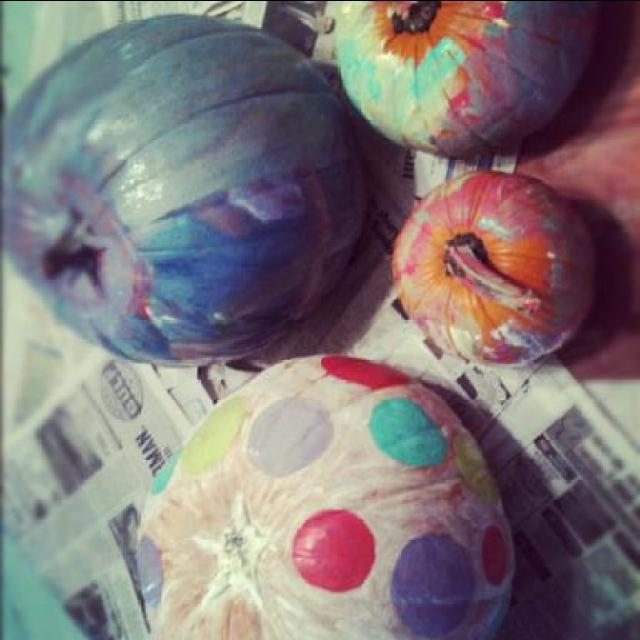Pumpkin: (0, 12, 362, 368), (137, 354, 514, 640), (325, 1, 607, 159), (396, 173, 602, 373)
